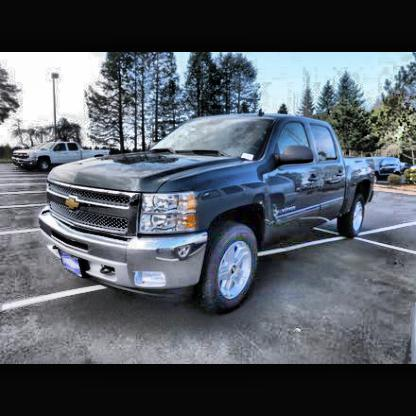Chevrolet Silverado 1500 Hybrid Crew Cab 2012: (39, 116, 378, 317)
